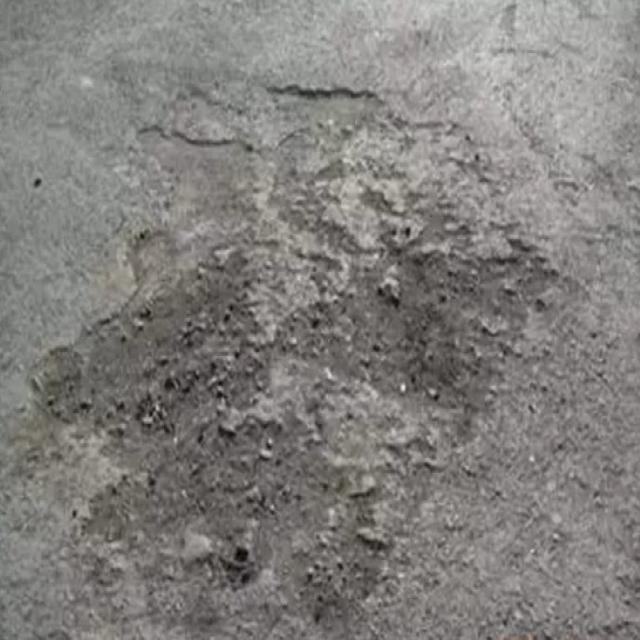Pothole: (23, 80, 584, 626)
